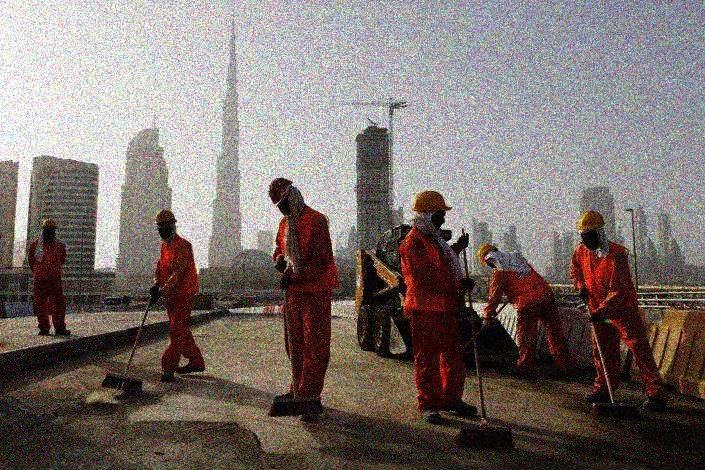helmet: (411, 191, 451, 232), (266, 177, 298, 214), (577, 209, 607, 244), (154, 210, 178, 239), (477, 243, 501, 268), (41, 218, 58, 238)
